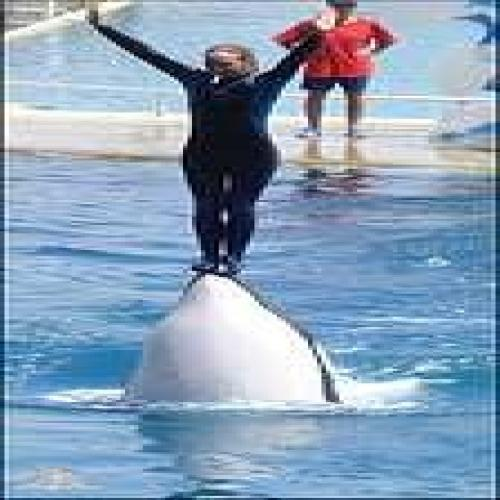killer_whale-endangered: (77, 262, 436, 418)
